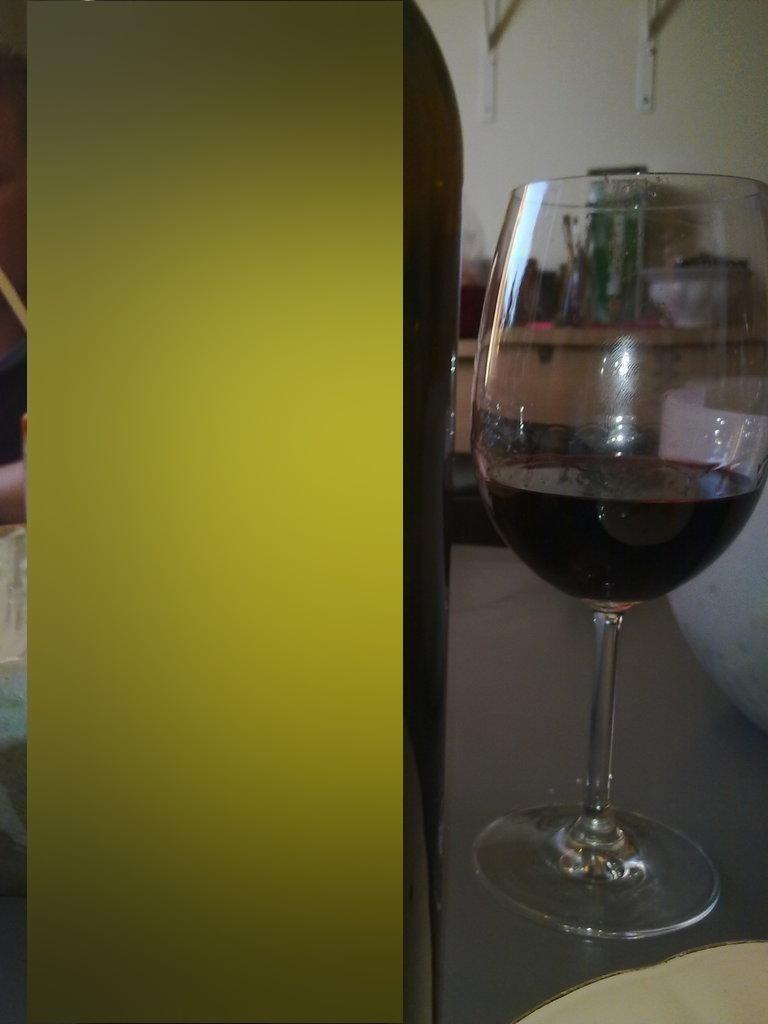glass-wine: (472, 166, 767, 936)
